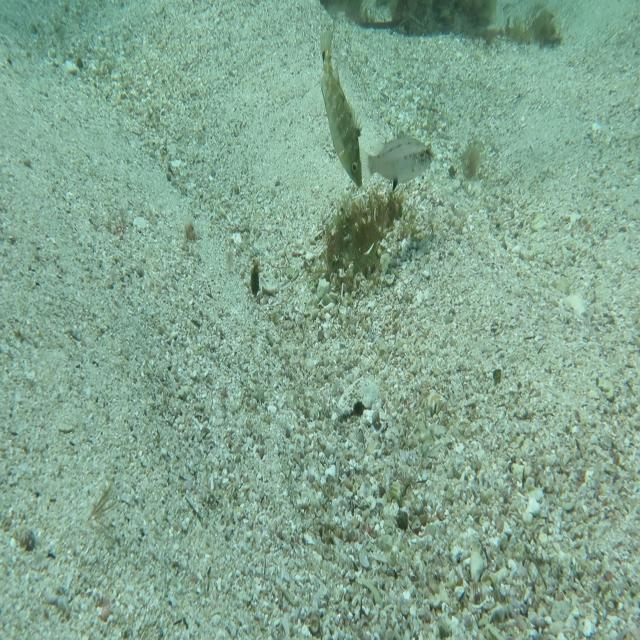INSF: (316, 11, 365, 191)
core_nest: (339, 196, 388, 241)
female: (365, 125, 438, 195)
nest: (315, 180, 408, 304)
